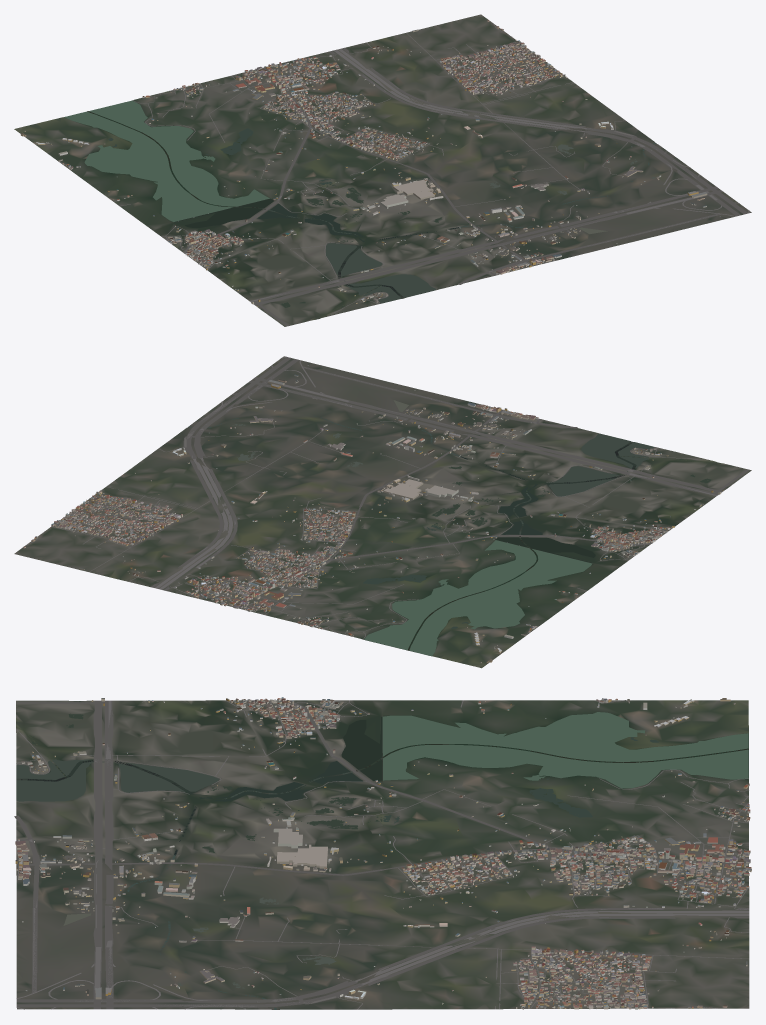
The picture shows the model from 3 angles, top to bottom: view 1: azimuth 30°, elevation 25°; view 2: azimuth 150°, elevation 25°; view 3: azimuth 270°, elevation 25°; orthographic projection. The views are drawn at different scales.
Visible parts, largest first — view 1: ground, buildings, water, roads; view 2: ground, buildings, water, roads; view 3: ground, water, buildings, roads.
Boxes of the visible parts, box(x1,y1,x2,y2) form: ground: box(14, 14, 751, 326); buildings: box(20, 19, 720, 306); water: box(64, 100, 656, 318); roads: box(59, 23, 749, 326); ground: box(14, 356, 751, 668); buildings: box(23, 365, 723, 662); water: box(188, 400, 729, 655); roads: box(26, 356, 748, 639); ground: box(16, 700, 749, 1009); water: box(16, 701, 748, 1009); buildings: box(15, 697, 751, 1009); roads: box(14, 700, 749, 1009).
Bounding box in the file's own units: 2814 × 34.99 × 2824.
